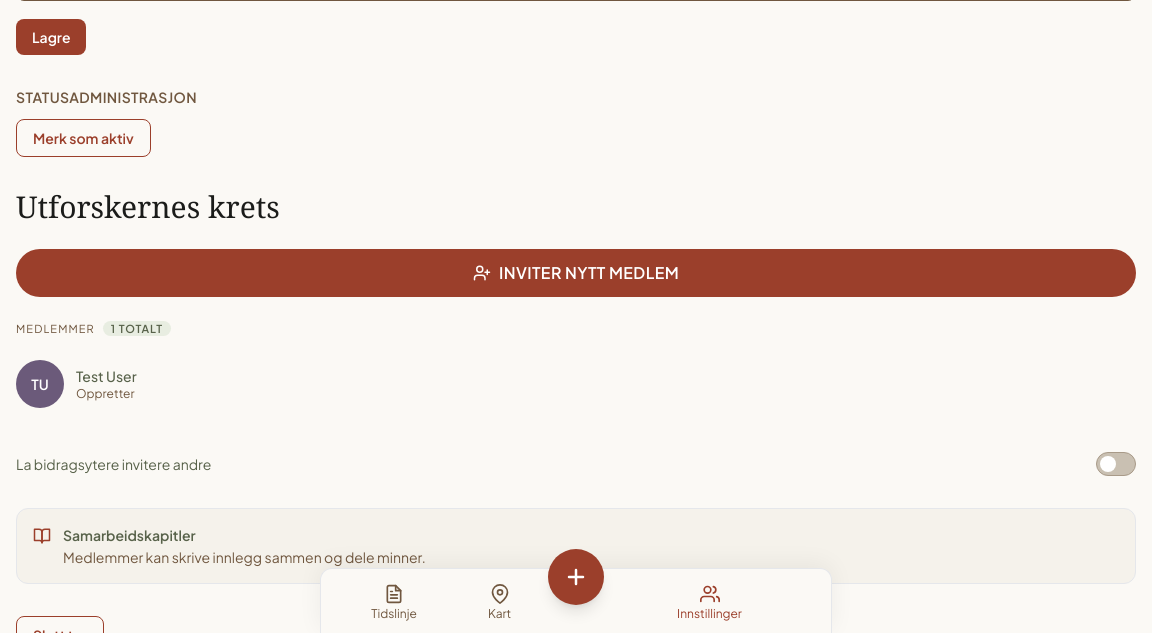
Test: MemberManagement (inside TripSettingsScreen) › adding an unknown email shows the invite link
The image size is (1152, 633).
(page scrolled)
Note: Open the collapsible invite form
Click the button "INVITER NYTT MEDLEM": click(576, 273) [16,249,1136,297]
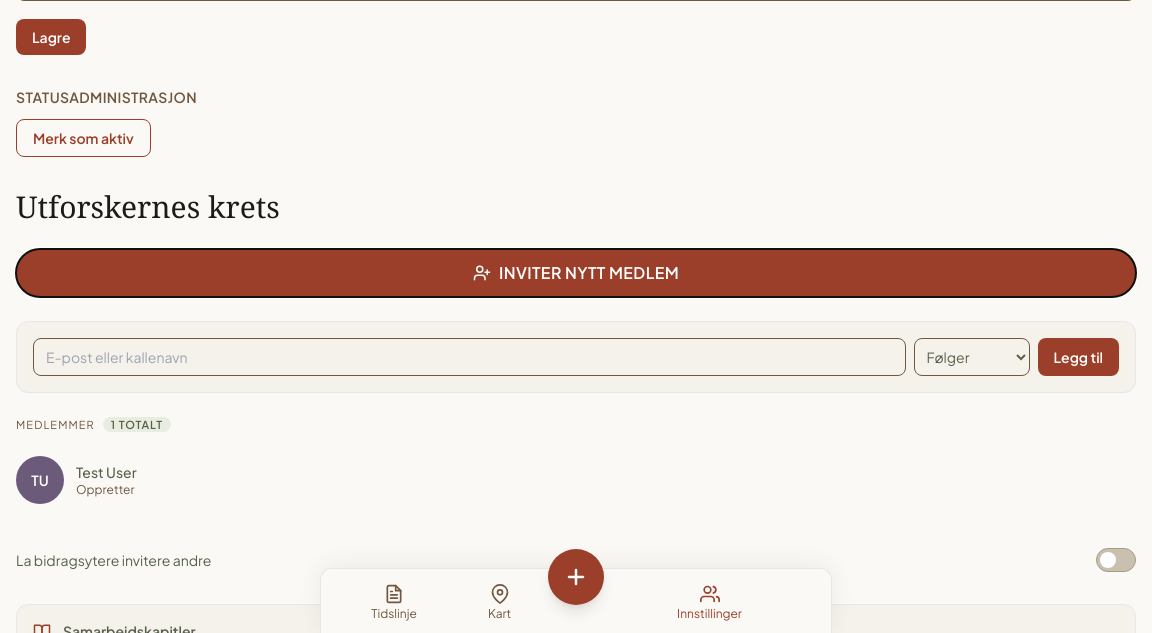
Expected: the field with placeholder "E-post eller kallenavn" is shown
In the field with placeholder "E-post eller kallenavn": (469, 357) [33,338,906,376], type "unknown@example.com"
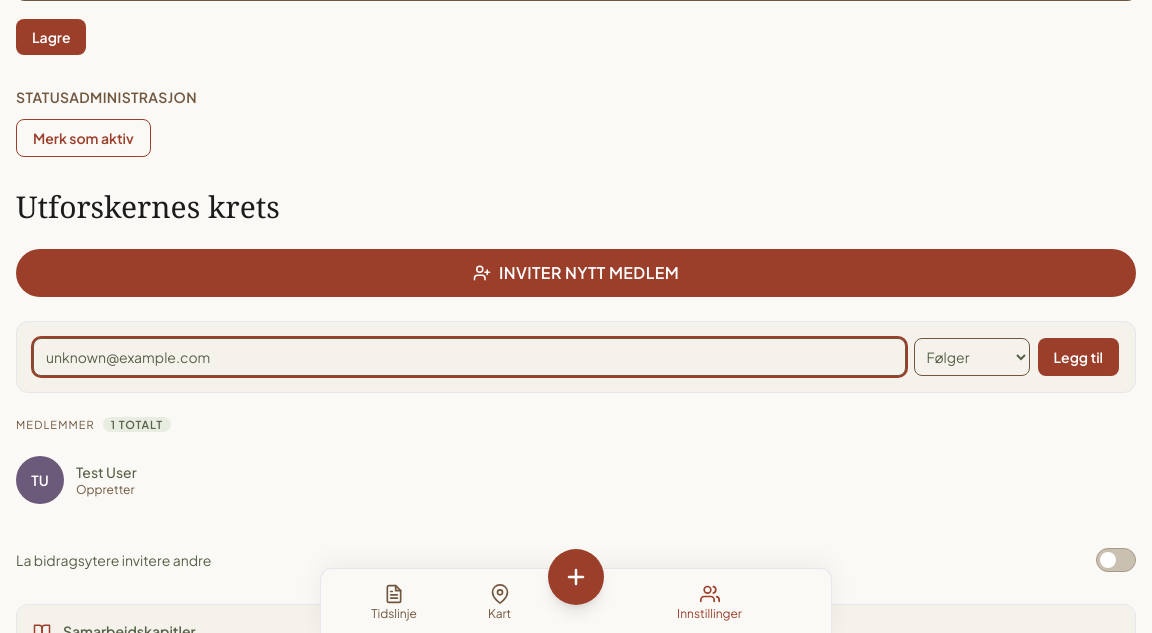
Click the button "Legg til": click(1078, 357) [1038,338,1119,376]
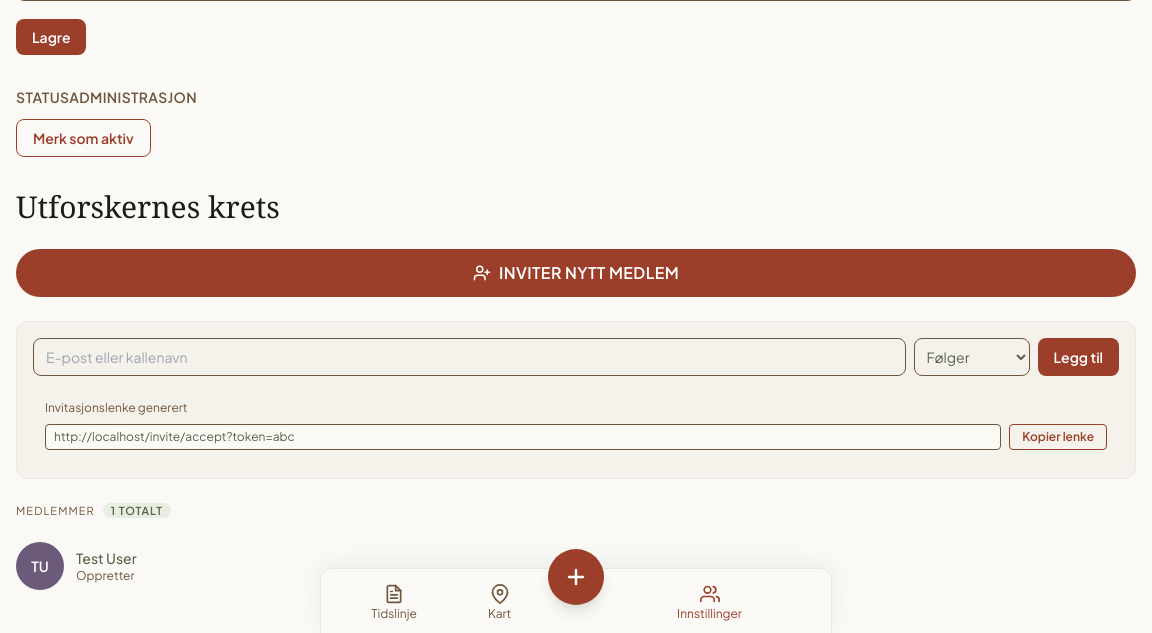
Expected: the field showing "/invite/accept?token=abc" is shown, [45,424,1001,450]
